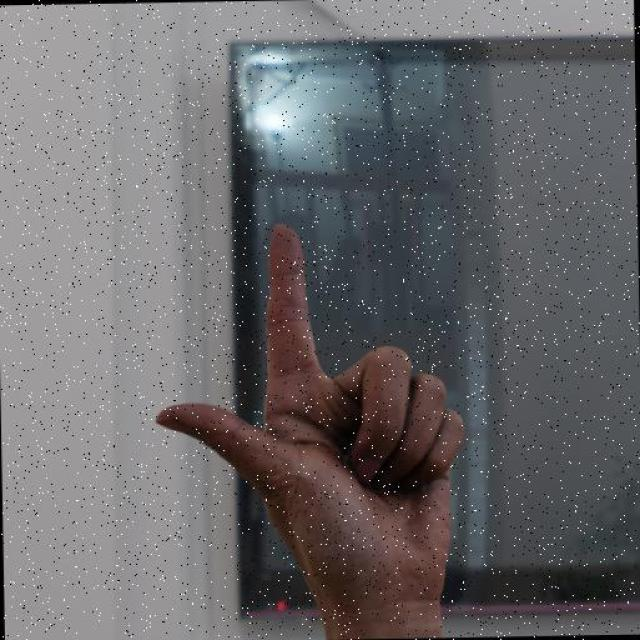L: (148, 217, 472, 623)
